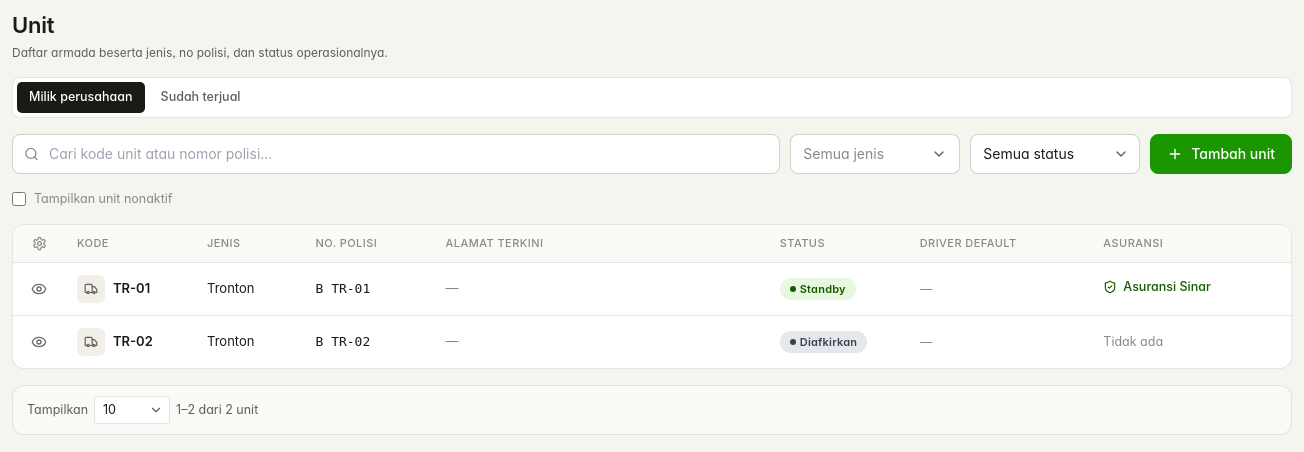
Test case: UnitsListView › tab Sudah terjual hanya menampilkan unit terjual
What coordinates should you click on to do the following:
click the button "Sudah terjual"
I would click on:
 (201, 97)
Its box is [149,82,253,113].
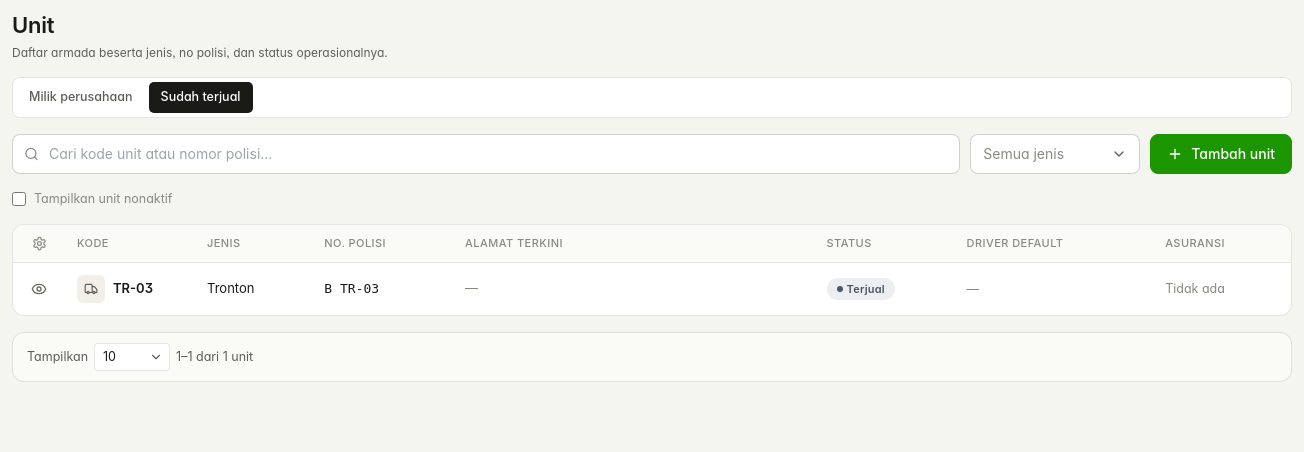
Expected: the text "TR-03" is shown, [113,279,153,299]
Expected: the text "TR-01" is gone
